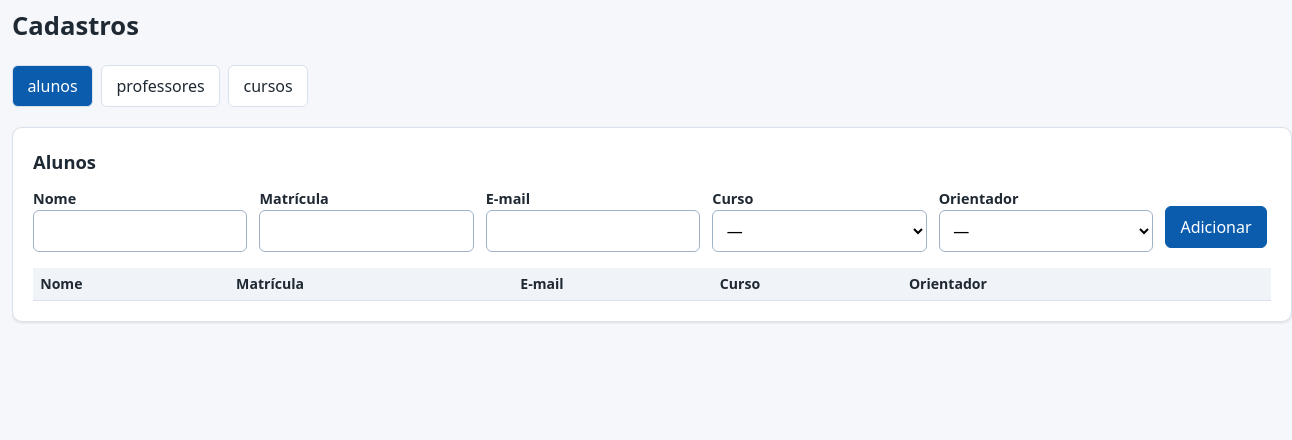
Scenario: Administração › exclusão recusada pela API mostra o motivo
Step 1. Click the tab "cursos" → (268,86), box [228,65,308,107]
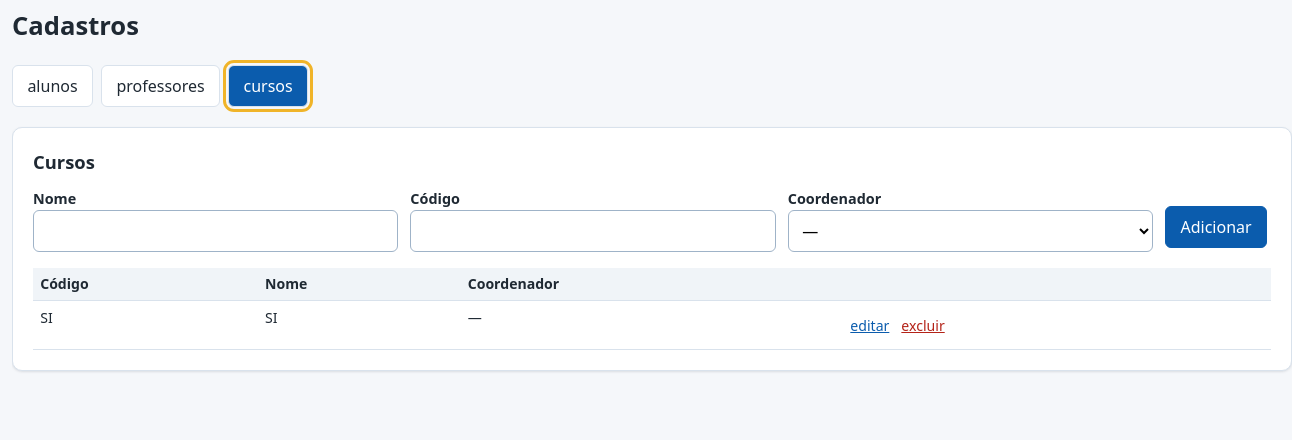
Step 2. Click the button "excluir" → (923,325), box [897,310,949,340]
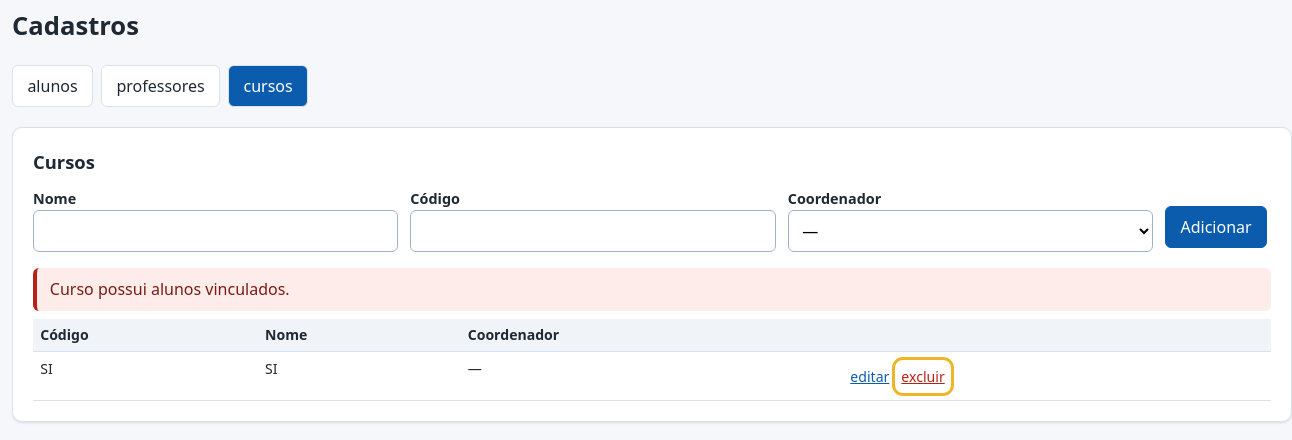
Now the message reads "Curso possui alunos vinculados.", box [50,278,290,300]
